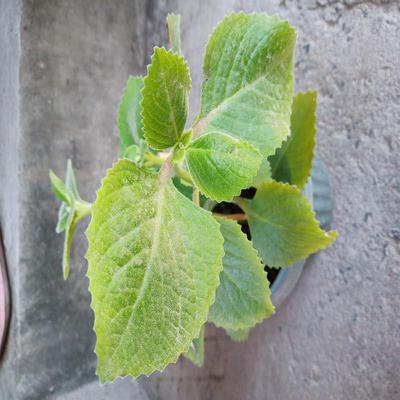Oregano: (44, 50, 360, 381)
